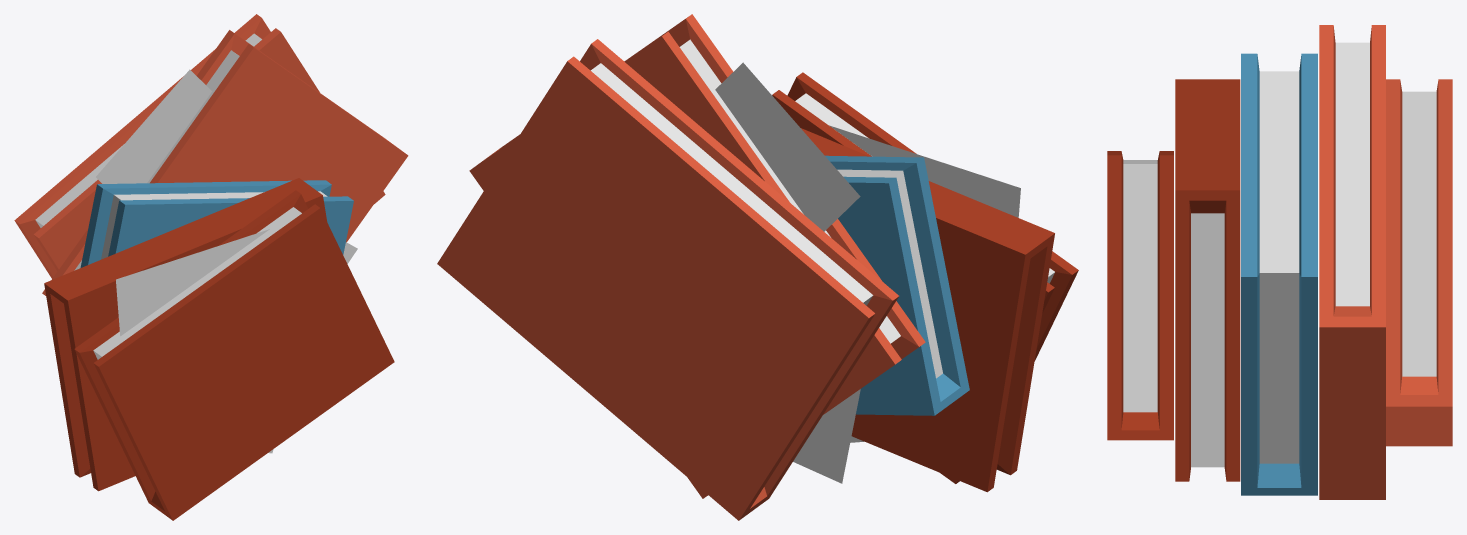
The model's file is Book_Pile_1_Alt.obj.
3 renders of one model, left to right at view 1: azimuth 30°, elevation 25°; view 2: azimuth 150°, elevation 25°; view 3: azimuth 270°, elevation 25°, orthographic. The views are drawn at different scales.
Parts seen in each view (by area): view 1: Book_Pile_1_Alt; view 2: Book_Pile_1_Alt; view 3: Book_Pile_1_Alt.
Part boxes in pixels (x1,y1,x2,y2): Book_Pile_1_Alt: (14,14,408,520); Book_Pile_1_Alt: (437,14,1078,520); Book_Pile_1_Alt: (1107,25,1452,499).
Size of the model in its own units: 0.3761 by 0.3441 by 0.2087.
